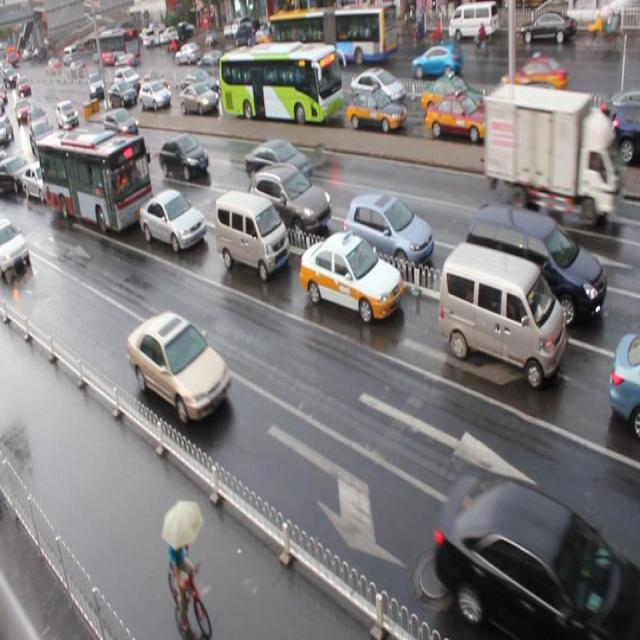bus: (484, 83, 609, 226)
car: (430, 460, 640, 640), (127, 310, 232, 422), (299, 228, 402, 322), (343, 195, 434, 279), (250, 162, 330, 238), (514, 99, 593, 158), (138, 187, 206, 252), (246, 138, 312, 194), (425, 91, 496, 142), (504, 83, 579, 128), (608, 331, 640, 436), (421, 76, 486, 121), (345, 86, 406, 133), (159, 136, 210, 184), (350, 67, 405, 108), (608, 99, 640, 160), (595, 93, 640, 135), (1, 216, 30, 277), (21, 158, 60, 203), (104, 107, 140, 142), (0, 153, 32, 192), (180, 83, 219, 114), (235, 69, 270, 103), (183, 68, 222, 97), (139, 80, 172, 112), (30, 116, 53, 154), (115, 65, 142, 94), (110, 81, 136, 110), (56, 100, 80, 130), (140, 68, 166, 93)
truck: (465, 198, 606, 332), (438, 240, 565, 388), (213, 187, 289, 280)
van: (37, 126, 154, 235), (216, 42, 339, 124)
